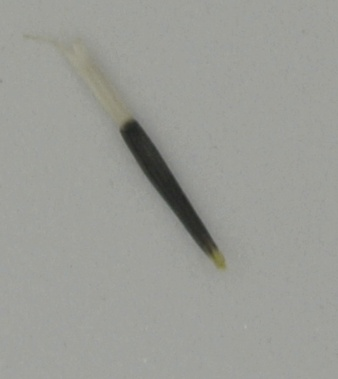เมล็ดดีเรียวยาว: (43, 32, 228, 274)
